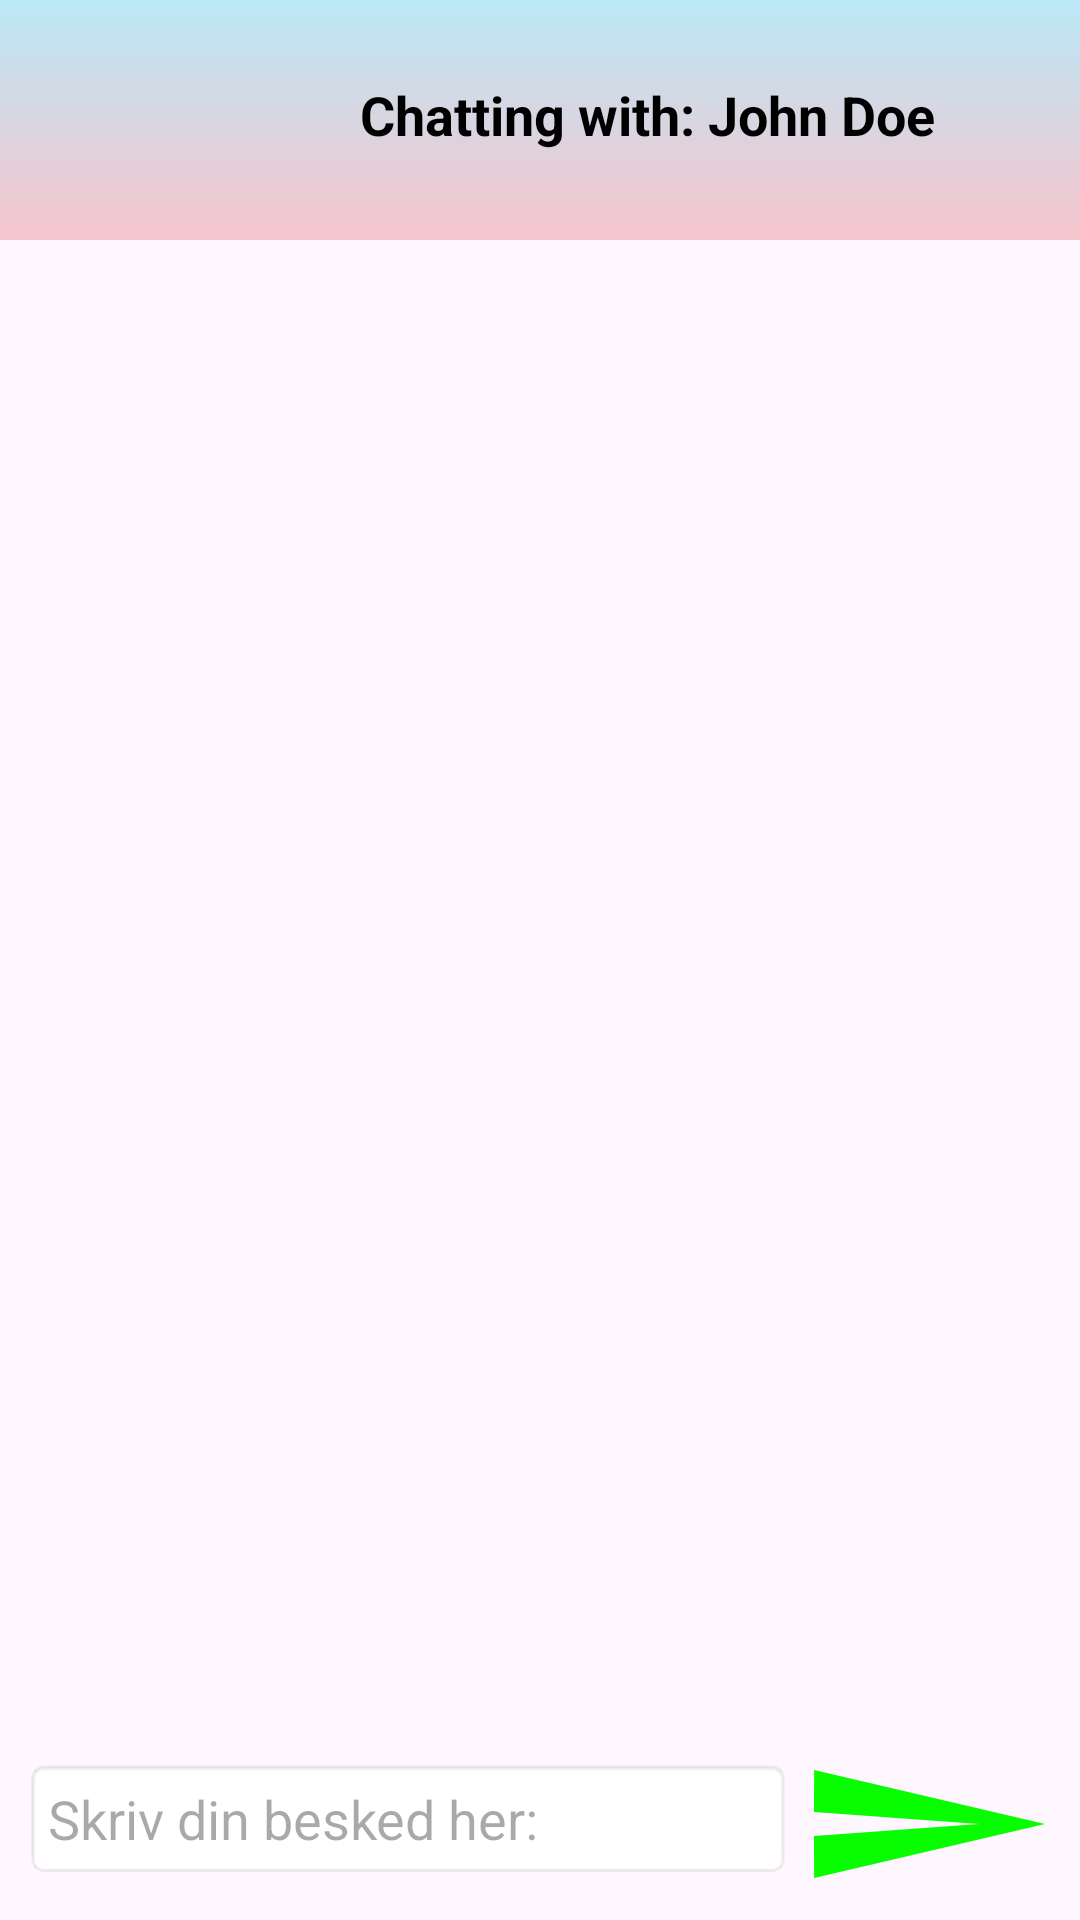

Where icons sit on this 1080×1920 app screen, as (x1, y1, x2, y2):
send: (814, 1770, 1045, 1878)
